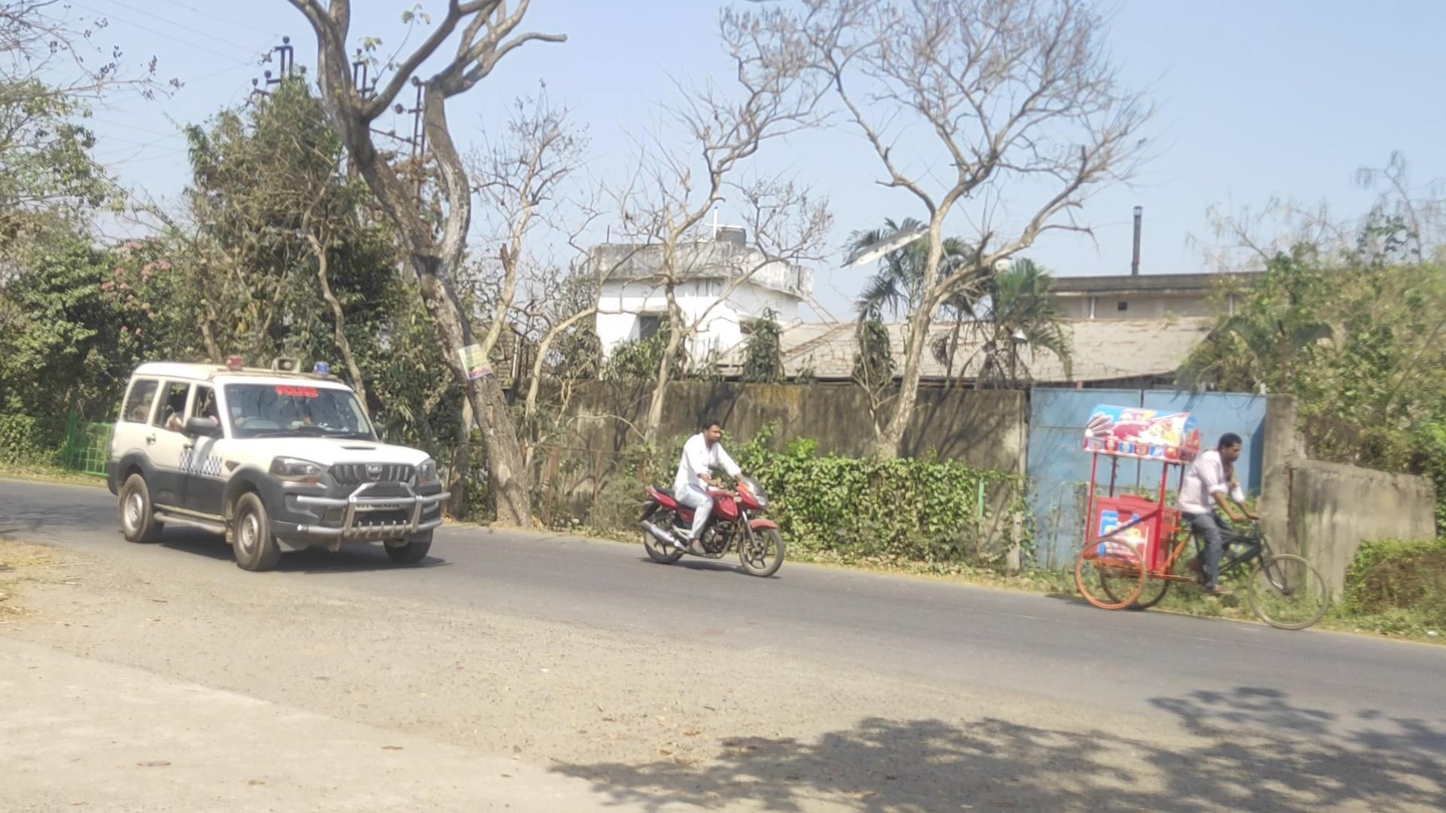bike: (638, 419, 786, 577)
car: (107, 355, 451, 572)
